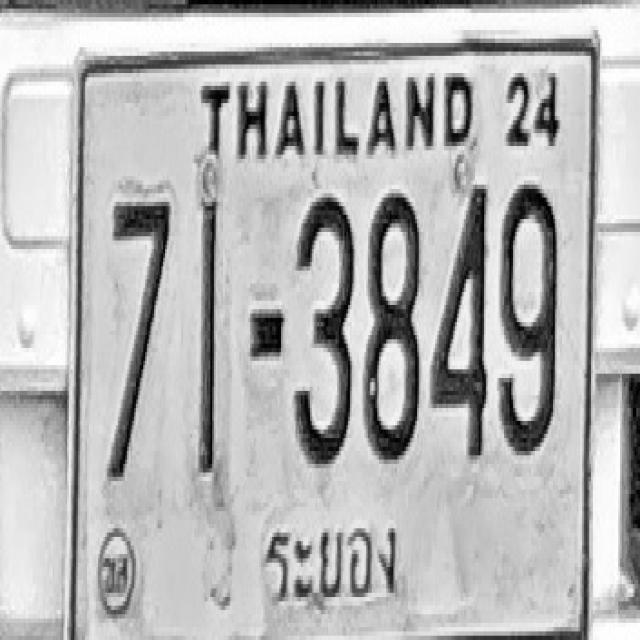1: (200, 196, 218, 474)
3: (294, 191, 354, 466)
4: (432, 182, 488, 458)
7: (108, 195, 169, 479)
8: (364, 191, 419, 462)
9: (500, 183, 558, 453)
Rayong: (264, 501, 400, 614)
